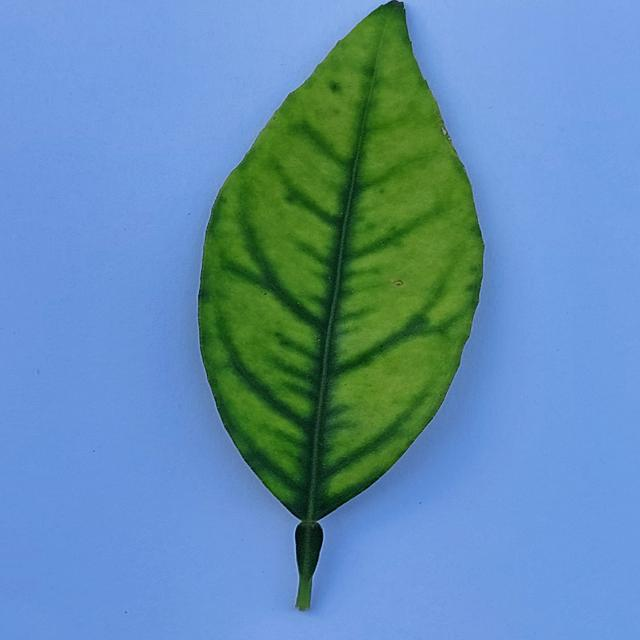greening: (199, 0, 483, 606)
